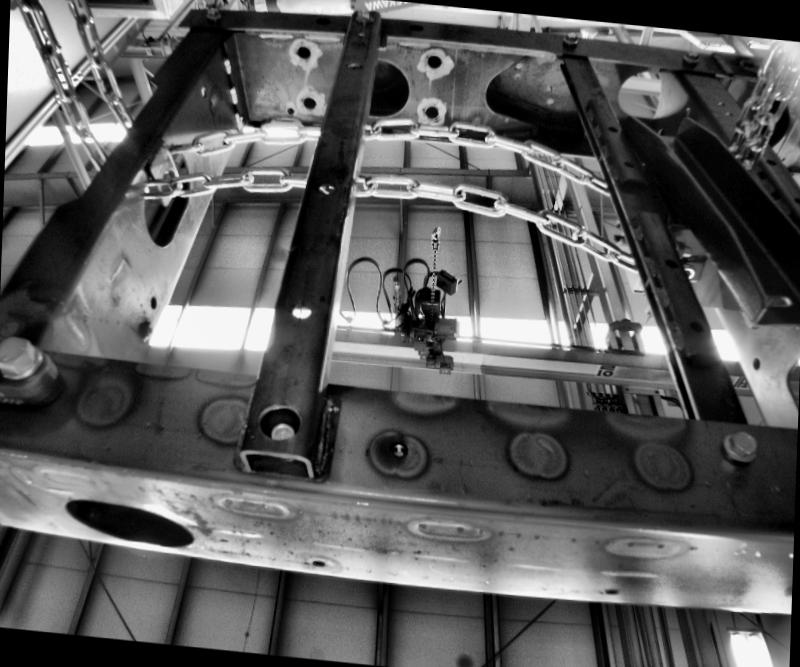bolt: (0, 332, 59, 412), (722, 428, 758, 461), (352, 4, 372, 29), (138, 315, 154, 342), (681, 47, 702, 65), (561, 25, 577, 48), (204, 3, 221, 18)
bracket: (142, 137, 186, 209)
hole: (60, 495, 194, 545), (611, 62, 674, 127), (260, 402, 301, 440), (290, 298, 311, 316), (318, 174, 336, 193), (390, 440, 408, 457), (295, 42, 312, 60), (424, 102, 440, 118), (688, 318, 704, 332), (426, 52, 440, 67), (302, 94, 316, 109), (663, 254, 678, 268), (346, 58, 362, 67), (148, 293, 156, 308), (622, 156, 634, 166), (752, 354, 760, 368), (312, 556, 324, 565), (765, 156, 777, 164), (608, 123, 618, 132), (604, 587, 618, 593), (792, 192, 799, 203), (286, 105, 293, 113), (717, 98, 725, 103), (724, 109, 731, 113)
welding: (226, 83, 238, 102), (232, 111, 244, 129), (222, 52, 230, 74)
